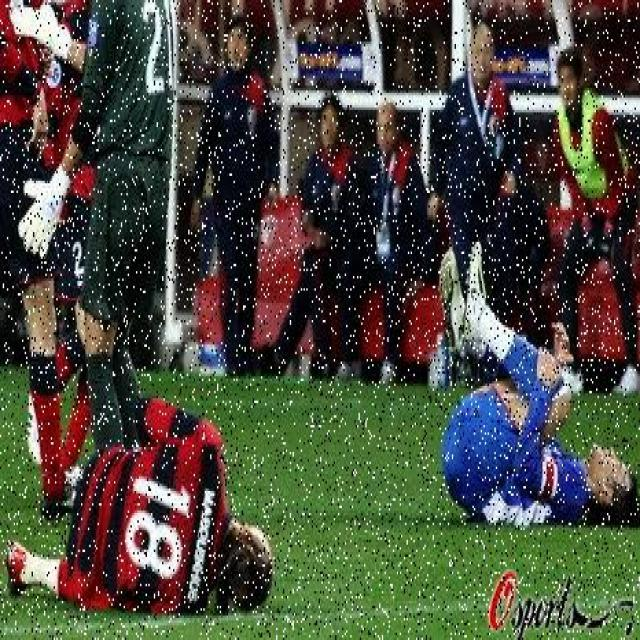fall: (424, 247, 638, 526), (27, 393, 278, 622)
